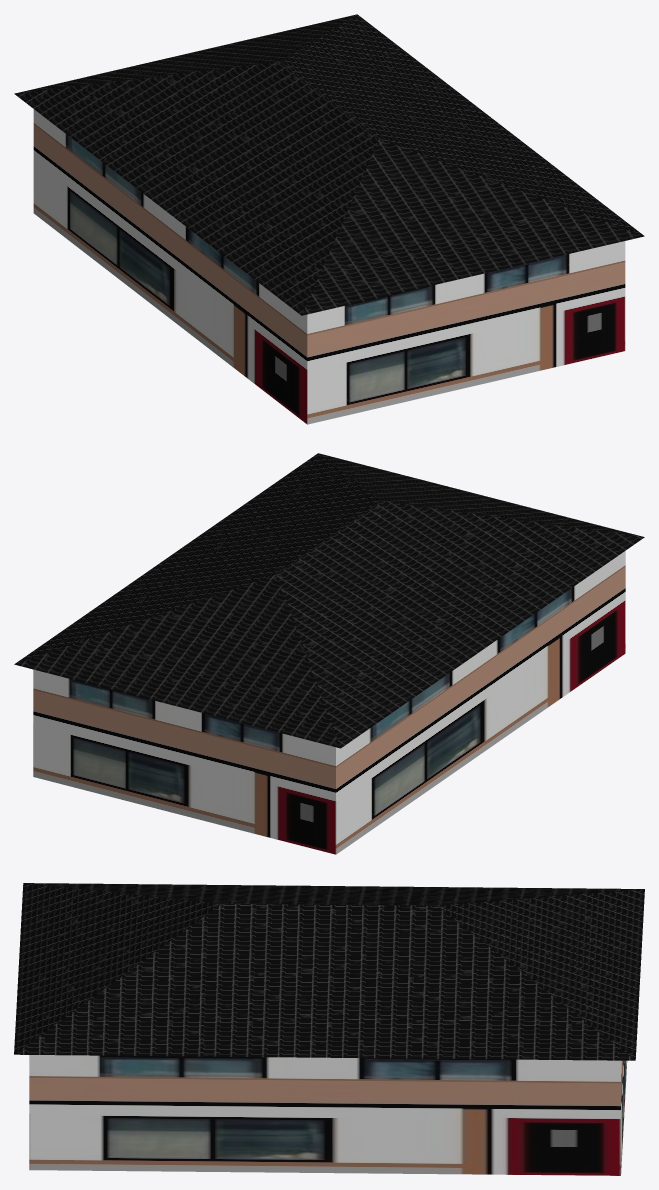
The picture shows the model from 3 angles, top to bottom: view 1: azimuth 30°, elevation 25°; view 2: azimuth 150°, elevation 25°; view 3: azimuth 270°, elevation 25°; orthographic projection. The views are drawn at different scales.
Parts seen in each view (by area): view 1: CityEngineMaterial_14_m, CityEngineMaterial_5_m; view 2: CityEngineMaterial_14_m, CityEngineMaterial_5_m; view 3: CityEngineMaterial_14_m, CityEngineMaterial_5_m.
Boxes of the visible parts, x1,y1,x2,y2 form: CityEngineMaterial_14_m: (14, 14, 644, 315); CityEngineMaterial_5_m: (33, 109, 625, 424); CityEngineMaterial_14_m: (14, 453, 644, 748); CityEngineMaterial_5_m: (33, 551, 625, 854); CityEngineMaterial_14_m: (14, 883, 644, 1060); CityEngineMaterial_5_m: (29, 1055, 627, 1175).
Size of the model in its own units: 26.35 by 13.04 by 39.54.
